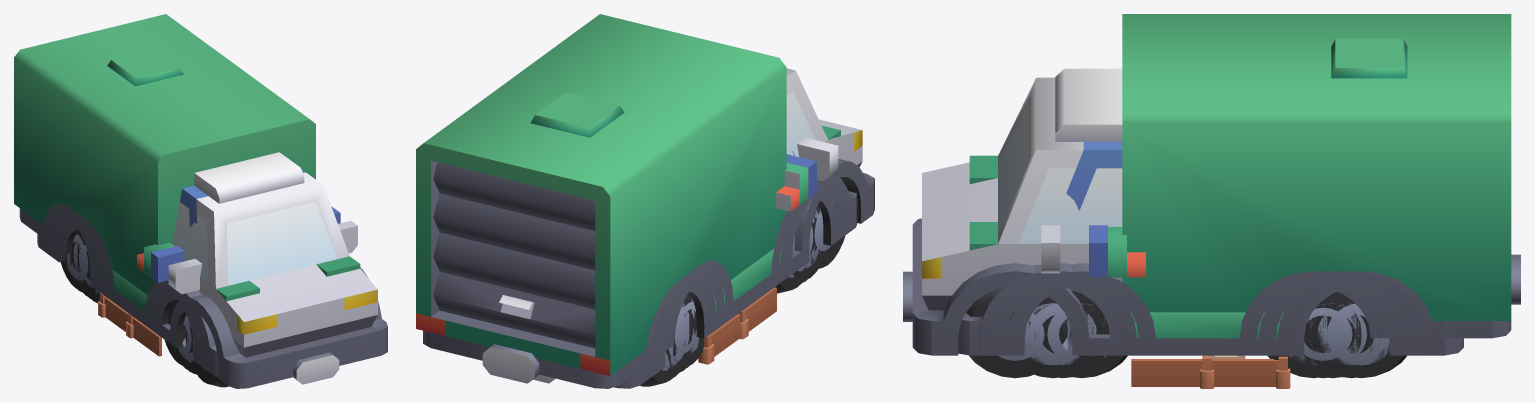
The model's file is town.glb.
The picture shows the model from 3 angles, left to right: view 1: azimuth 30°, elevation 25°; view 2: azimuth 150°, elevation 25°; view 3: azimuth 270°, elevation 25°; orthographic projection. The views are drawn at different scales.
Visible parts, largest first — view 1: body (×5), fence-low, wheel-back-right (×2), wheel-front-right (×3); view 2: body (×5), door, wheel-back-right (×4), fence-low, wheel-front-right (×3); view 3: body (×5), wheel-back-left (×5), wheel-front-left (×4), fence-low.
Boxes of the visible parts, bbox=[...] form: body (×5): bbox=[14, 14, 387, 388]; fence-low: bbox=[98, 292, 161, 356]; wheel-back-right (×2): bbox=[60, 230, 99, 298]; wheel-front-right (×3): bbox=[164, 299, 228, 387]; body (×5): bbox=[416, 14, 874, 388]; door: bbox=[433, 162, 595, 348]; wheel-back-right (×4): bbox=[640, 293, 703, 386]; fence-low: bbox=[698, 287, 776, 364]; wheel-front-right (×3): bbox=[775, 207, 845, 293]; body (×5): bbox=[903, 14, 1520, 355]; wheel-back-left (×5): bbox=[1267, 292, 1406, 378]; wheel-front-left (×4): bbox=[966, 290, 1127, 378]; fence-low: bbox=[1131, 355, 1290, 388].
Size of the model in its own units: 1.5 by 1.65 by 3.25.
6 materials, 3 textured.
